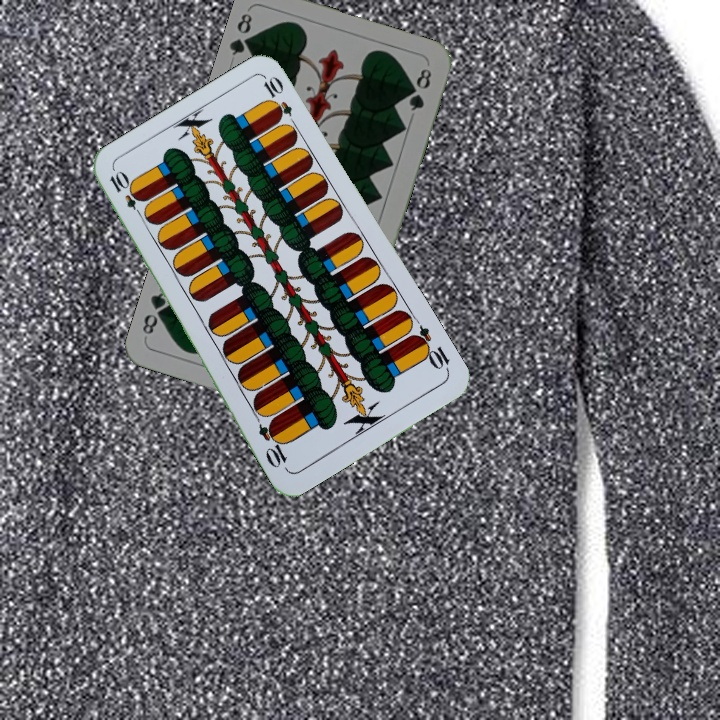E10: (407, 322, 452, 375), (105, 167, 148, 222)
G8: (226, 9, 259, 58)
